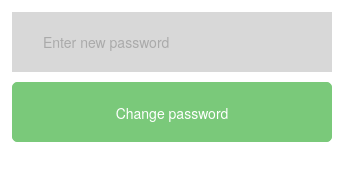
Test: ResetPasswordForm › sends the password with the token from the link, then goes where the action says
The image size is (349, 172).
Later steps or results of the test are not shown.
Type "longenough1" into the password field labelled "password" at {"x": 172, "y": 42}, box left=12, top=12, right=332, bottom=72
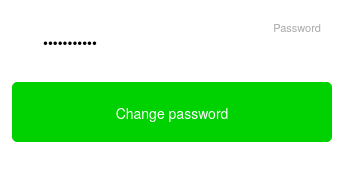
Expected: the button "Change password" is enabled, left=12, top=82, right=332, bottom=142
